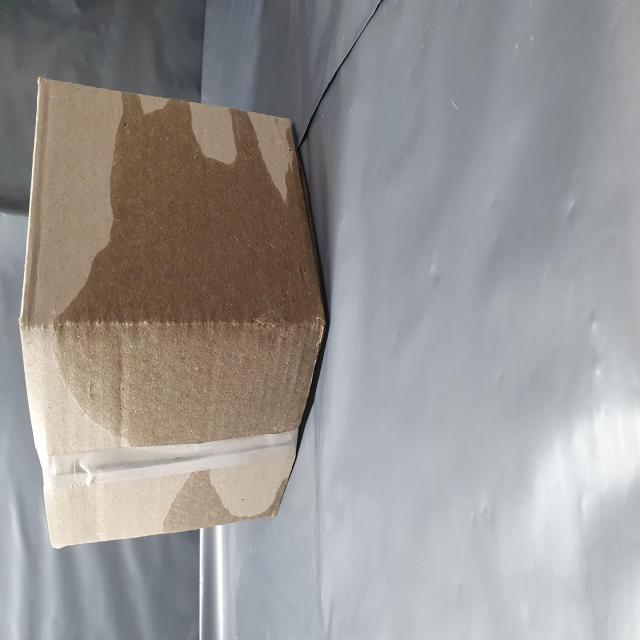wet: (94, 126, 310, 590)
